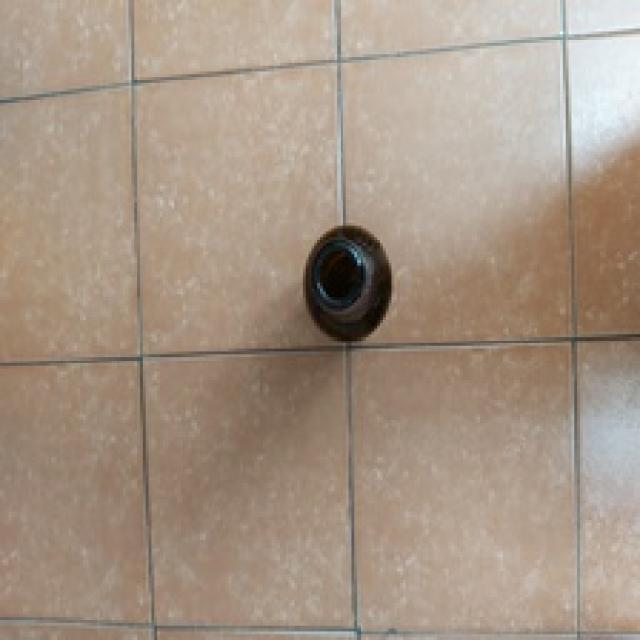garbage: (296, 222, 419, 353)
